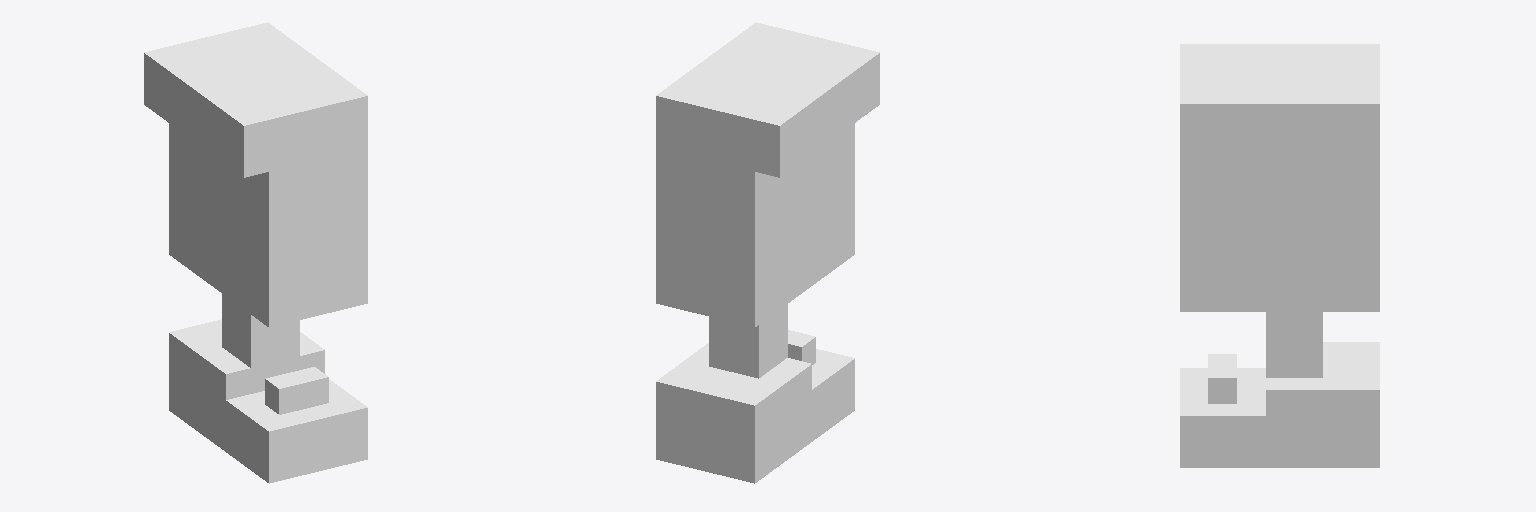
File: LeftLeg.obj
The picture shows the model from 3 angles: view 1: azimuth 30°, elevation 25°; view 2: azimuth 150°, elevation 25°; view 3: azimuth 270°, elevation 25°; orthographic projection.
Visible parts, largest first — view 1: object 1; view 2: object 1; view 3: object 1.
Part boxes in pixels (bbox=[...]): object 1: bbox=[144, 22, 367, 483]; object 1: bbox=[656, 22, 879, 483]; object 1: bbox=[1180, 44, 1379, 467].
Bounding box in the file's own units: 0.5 × 1.4 × 0.7.